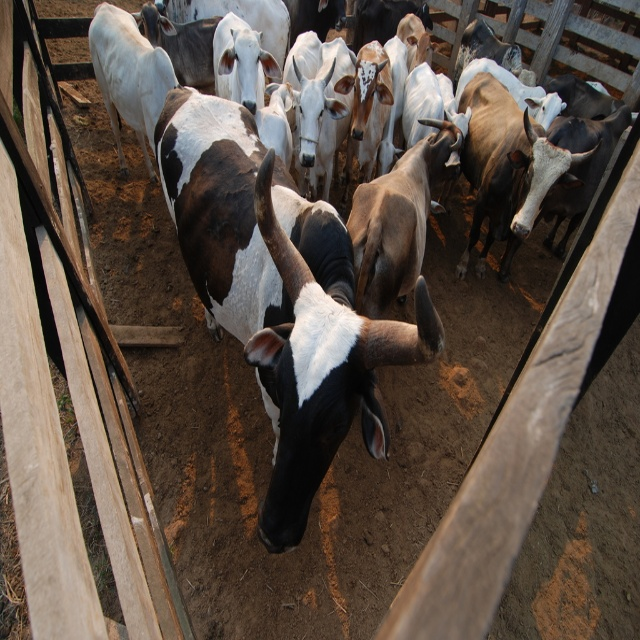Cattle: (89, 0, 632, 554)
